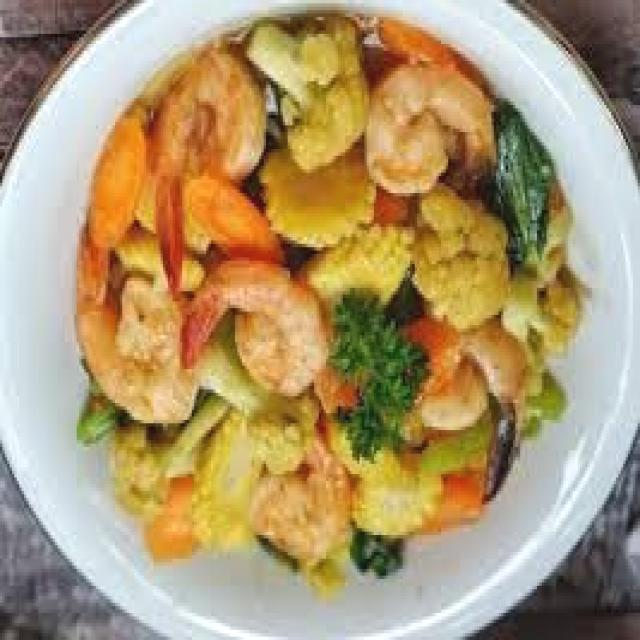capcay: (70, 10, 594, 603)
